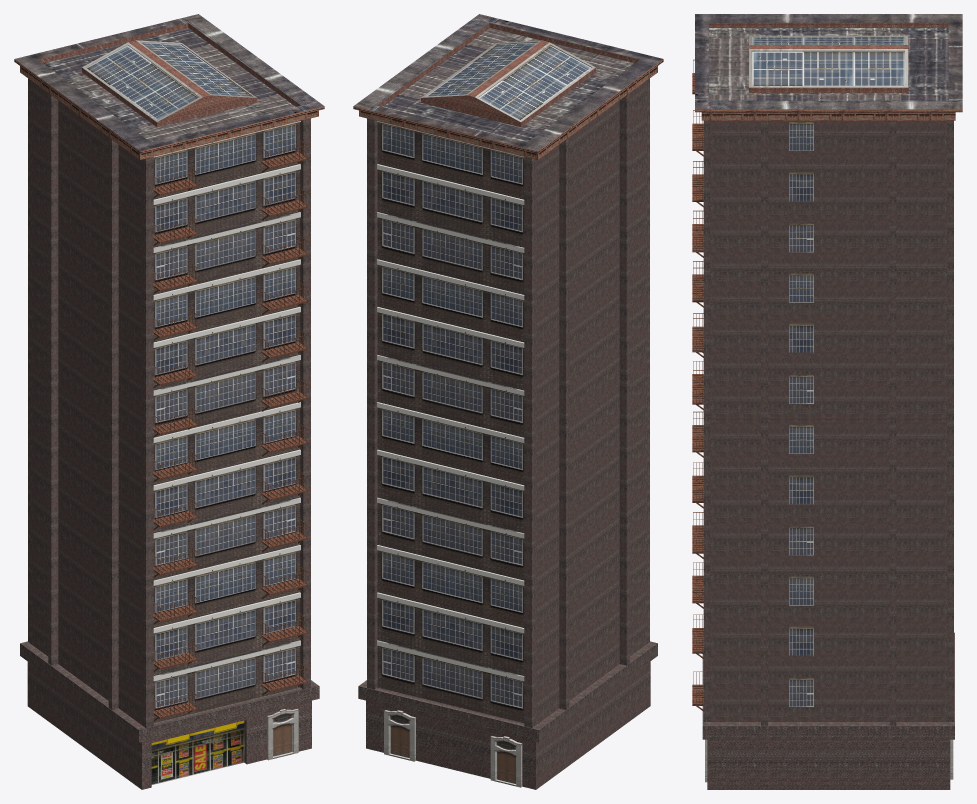
Rendered from Building_A06.obj.
3 renders of one model, left to right at view 1: azimuth 30°, elevation 25°; view 2: azimuth 150°, elevation 25°; view 3: azimuth 270°, elevation 25°, orthographic. The views are drawn at different scales.
Parts seen in each view (by area): view 1: K_Building_A06_00; view 2: K_Building_A06_00; view 3: K_Building_A06_00.
Part boxes in pixels (box(x1,y1,x2,y2)): K_Building_A06_00: box(14, 14, 324, 789); K_Building_A06_00: box(353, 14, 663, 789); K_Building_A06_00: box(692, 14, 962, 789).
Bounding box in the file's own units: 13.33 × 45.51 × 15.95.
